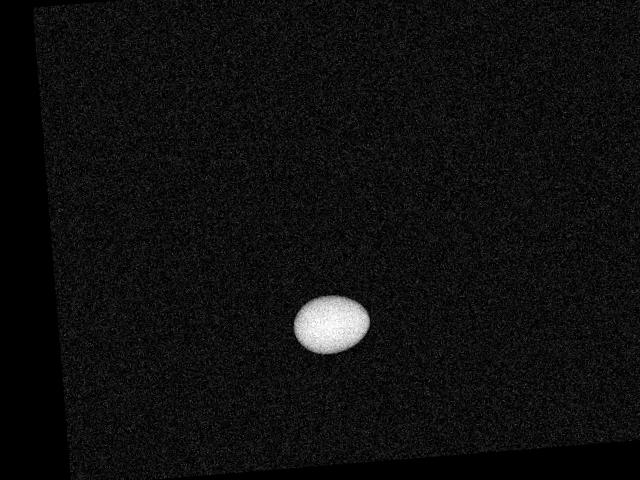egg: (291, 291, 371, 356)
